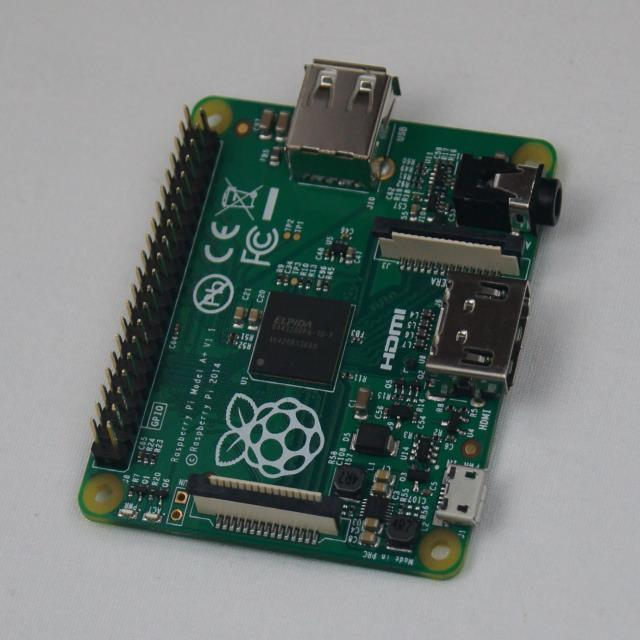Raspberry-Pi-1-A-: (79, 60, 563, 579)
